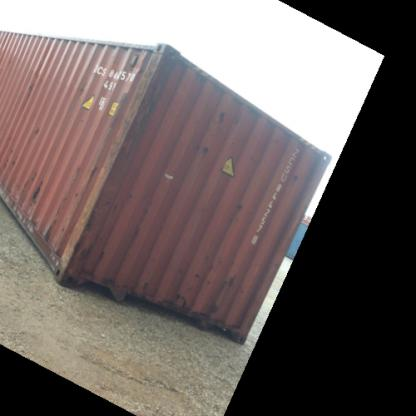Damage: (109, 54, 179, 172), (62, 214, 113, 278), (70, 158, 102, 204), (68, 75, 96, 117), (190, 252, 222, 288), (28, 166, 50, 213), (214, 100, 246, 130), (156, 289, 196, 311), (202, 298, 230, 326), (39, 216, 59, 247), (0, 142, 21, 170), (192, 132, 212, 160), (224, 266, 238, 301), (19, 74, 38, 98), (288, 166, 304, 188), (232, 196, 250, 212), (29, 121, 41, 134)
